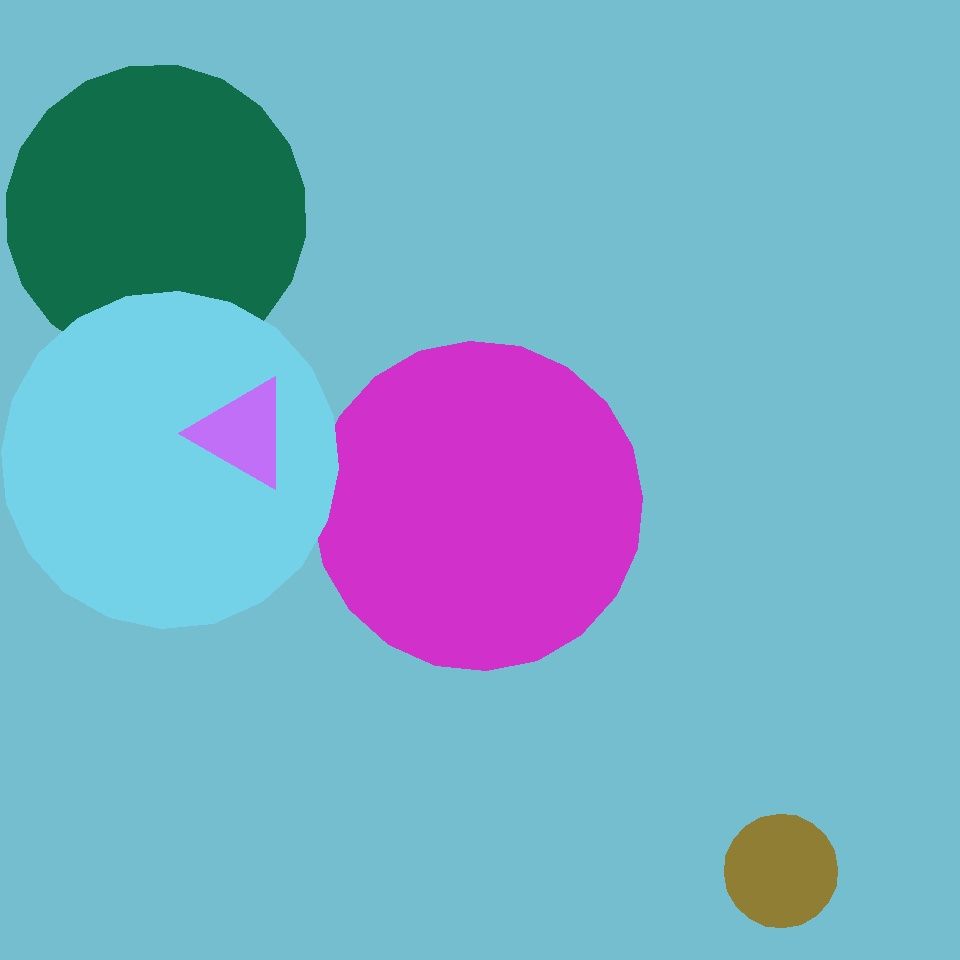circle: (194, 376, 292, 490)
triangle: (2, 292, 338, 628), (314, 342, 642, 670), (7, 66, 306, 364), (725, 815, 838, 928)
